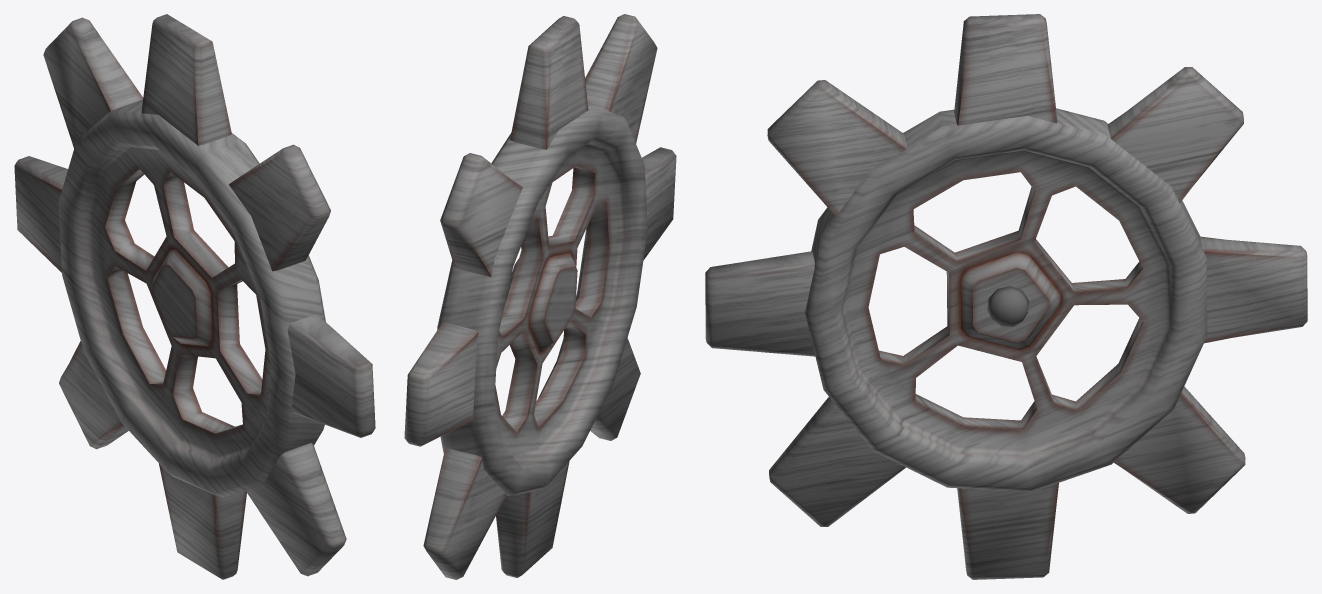
File: cog.fbx
3 views of the same model, side by side, from view 1: azimuth 30°, elevation 25°; view 2: azimuth 150°, elevation 25°; view 3: azimuth 270°, elevation 25° (orthographic).
Parts seen in each view (by area): view 1: cog_01, cog_teeth_01; view 2: cog_01, cog_teeth_01; view 3: cog_01, cog_teeth_01, bolt_cog_01.
Boxes of the visible parts, x1,y1,x2,y2 form: cog_01: (58, 99, 325, 497); cog_teeth_01: (14, 14, 375, 579); cog_01: (437, 104, 647, 496); cog_teeth_01: (404, 14, 676, 579); cog_01: (805, 108, 1207, 492); cog_teeth_01: (705, 14, 1307, 579); bolt_cog_01: (987, 286, 1029, 326).
Bounding box in the file's own units: 6.85 × 41.74 × 41.69.
3 materials, 2 textured.
